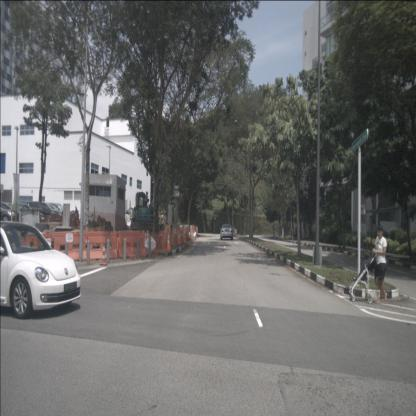human-pedestrian-adult: (371, 224, 389, 304)
movable_object-barrier: (52, 230, 89, 264), (18, 232, 52, 268), (85, 228, 119, 262), (115, 227, 147, 260), (189, 224, 199, 238)
movable_object-trafficcone: (100, 245, 110, 268), (177, 226, 182, 247), (166, 233, 171, 252), (182, 227, 186, 246)
vehicle-car: (0, 222, 82, 319), (27, 201, 60, 223), (0, 201, 21, 227), (220, 224, 234, 240)
